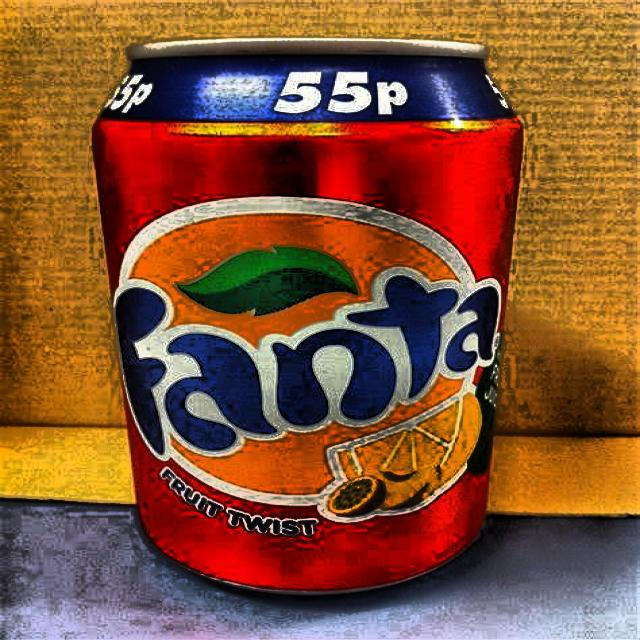Cans: (61, 28, 532, 612)
